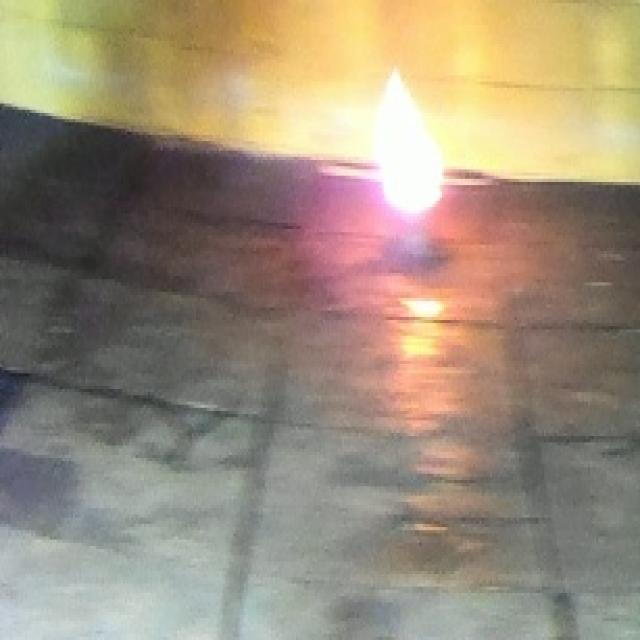Fire: (377, 61, 443, 214)
